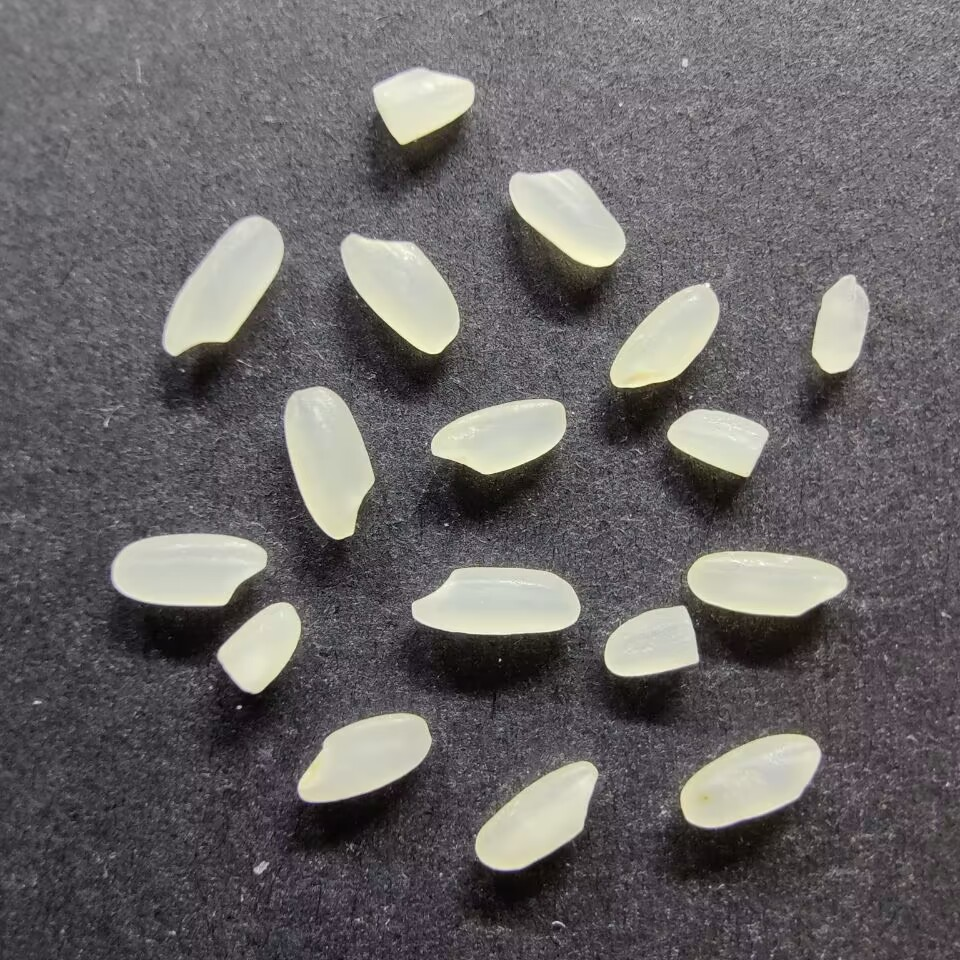broken: (367, 66, 476, 147), (214, 600, 302, 695), (666, 407, 770, 479), (600, 604, 701, 678), (810, 272, 871, 376)
rice: (159, 214, 284, 356), (339, 232, 463, 356), (471, 760, 598, 874), (282, 385, 375, 540), (677, 732, 823, 829), (407, 565, 582, 637), (109, 530, 269, 608), (296, 713, 433, 804), (506, 167, 628, 269), (608, 282, 721, 390), (428, 395, 567, 476), (685, 549, 848, 618)
